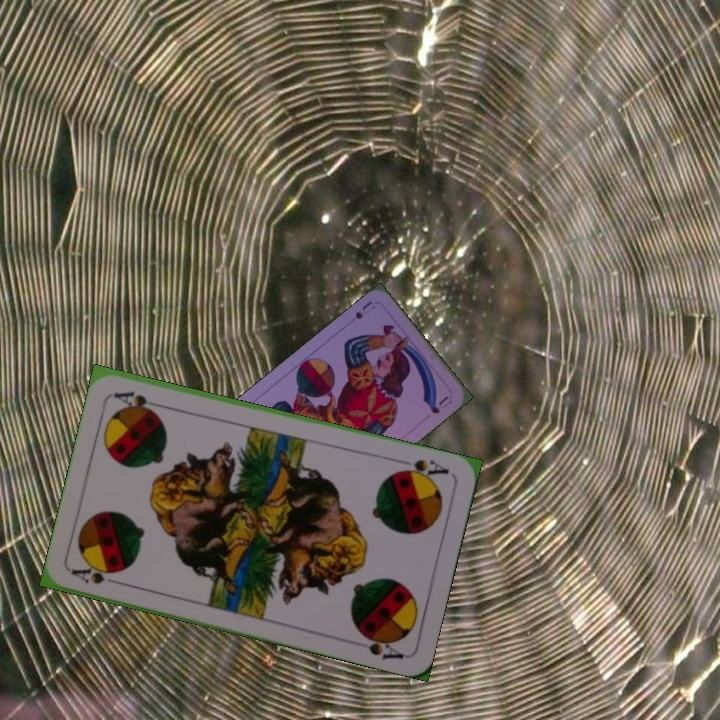SA: (392, 455, 452, 483), (68, 561, 126, 588)
SU: (351, 297, 378, 322)
